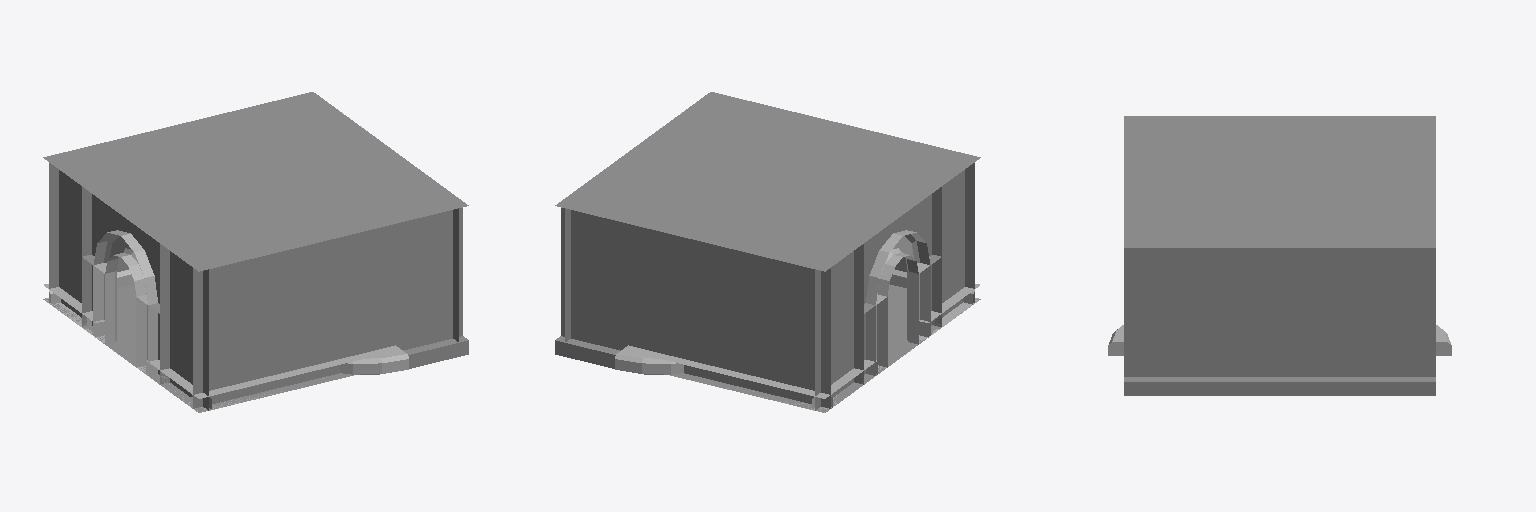
File: chestRoom.obj
The picture shows the model from 3 angles: view 1: azimuth 30°, elevation 25°; view 2: azimuth 150°, elevation 25°; view 3: azimuth 270°, elevation 25°; orthographic projection.
Parts seen in each view (by area): view 1: struct_ceiling_7, struct_wall_main_half_2, struct_wall_big_door_upper_8, struct_wall_big_door_lower_3, struct_wall_main_half_1, struct_wall_main_half_4, struct_floor_main_half_0, struct_wall_main_half_5, struct_wall_curved_base_30, struct_floor_normal_34, struct_wall_base_half_13, struct_wall_main_half_6; view 2: struct_ceiling_7, struct_wall_main_half_5, struct_wall_big_door_upper_8, struct_wall_big_door_lower_3, struct_wall_main_half_4, struct_wall_main_half_1, struct_floor_main_half_0, struct_wall_main_half_2, struct_wall_curved_base_29, struct_floor_normal_34, struct_wall_base_half_12, struct_wall_main_half_6 (+1 smaller); view 3: struct_ceiling_7, struct_wall_main_half_6, struct_floor_normal_34, struct_wall_big_door_upper_8.
Part boxes in pixels (bbox=[...]): struct_ceiling_7: bbox=[43, 92, 468, 271]; struct_wall_main_half_2: bbox=[193, 208, 462, 408]; struct_wall_big_door_upper_8: bbox=[82, 184, 169, 313]; struct_wall_big_door_lower_3: bbox=[82, 255, 169, 384]; struct_wall_main_half_1: bbox=[170, 251, 208, 410]; struct_wall_main_half_4: bbox=[59, 170, 81, 317]; struct_floor_main_half_0: bbox=[43, 284, 353, 412]; struct_wall_main_half_5: bbox=[49, 163, 128, 302]; struct_wall_curved_base_30: bbox=[340, 345, 408, 374]; struct_floor_normal_34: bbox=[404, 336, 468, 368]; struct_wall_base_half_13: bbox=[191, 346, 400, 411]; struct_wall_main_half_6: bbox=[453, 208, 458, 341]; struct_ceiling_7: bbox=[555, 92, 980, 271]; struct_wall_main_half_5: bbox=[561, 208, 830, 408]; struct_wall_big_door_upper_8: bbox=[854, 184, 941, 313]; struct_wall_big_door_lower_3: bbox=[854, 255, 941, 384]; struct_wall_main_half_4: bbox=[815, 251, 853, 410]; struct_wall_main_half_1: bbox=[942, 170, 964, 317]; struct_floor_main_half_0: bbox=[670, 284, 980, 412]; struct_wall_main_half_2: bbox=[895, 163, 974, 302]; struct_wall_curved_base_29: bbox=[615, 346, 683, 374]; struct_floor_normal_34: bbox=[555, 336, 619, 368]; struct_wall_base_half_12: bbox=[623, 345, 832, 410]; struct_wall_main_half_6: bbox=[565, 208, 570, 341]; struct_ceiling_7: bbox=[1124, 116, 1435, 247]; struct_wall_main_half_6: bbox=[1124, 248, 1435, 376]; struct_floor_normal_34: bbox=[1124, 377, 1435, 395]; struct_wall_big_door_upper_8: bbox=[1202, 116, 1357, 120].
Size of the model in its own units: 4 by 2.1 by 4.4.